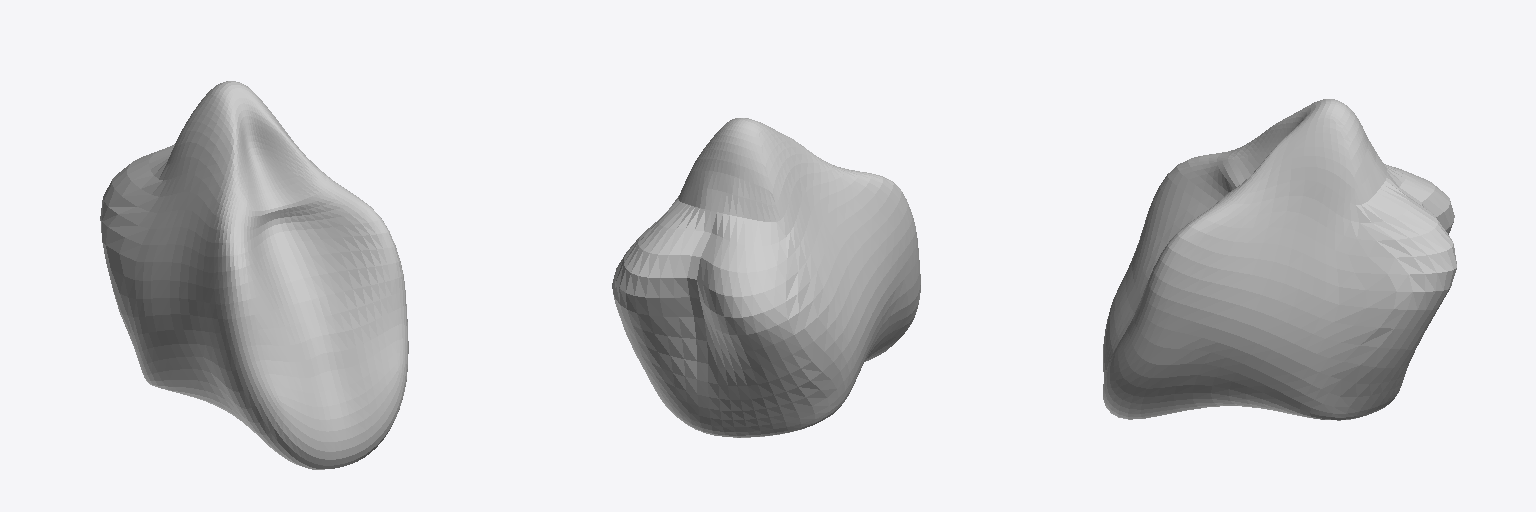
Rendered from vertabrae12.obj.
3 renders of one model, left to right at view 1: azimuth 30°, elevation 25°; view 2: azimuth 150°, elevation 25°; view 3: azimuth 270°, elevation 25°, orthographic.
Visible parts, largest first — view 1: Cube.106_Cube.108; view 2: Cube.106_Cube.108; view 3: Cube.106_Cube.108.
Boxes of the visible parts, <box> form: Cube.106_Cube.108: <box>100,81,408,469</box>; Cube.106_Cube.108: <box>612,118,920,437</box>; Cube.106_Cube.108: <box>1103,99,1456,420</box>.
Size of the model in its own units: 0.064 by 0.0957 by 0.0993.